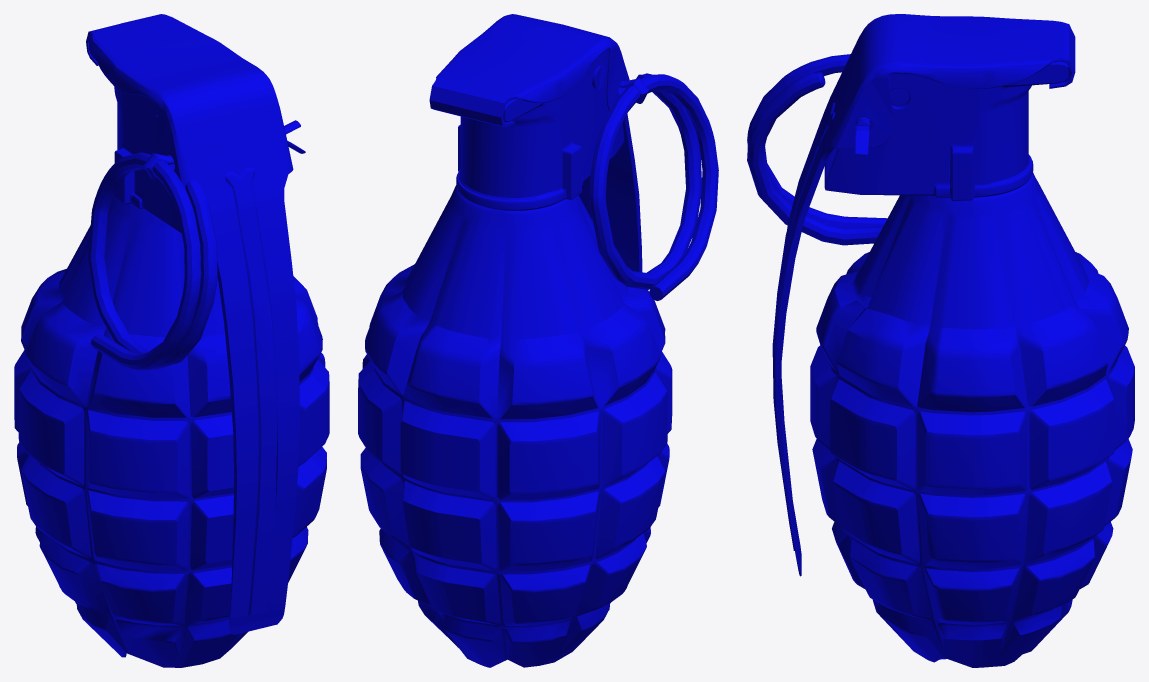
The model's file is Grenade01.fbx.
The picture shows the model from 3 angles, left to right: view 1: azimuth 30°, elevation 25°; view 2: azimuth 150°, elevation 25°; view 3: azimuth 270°, elevation 25°; orthographic projection. The views are drawn at different scales.
Parts seen in each view (by area): view 1: MK3:GrenadeBody_low; view 2: MK3:GrenadeBody_low; view 3: MK3:GrenadeBody_low.
Boxes of the visible parts, x1,y1,x2,y2 form: MK3:GrenadeBody_low: (14, 14, 329, 667); MK3:GrenadeBody_low: (358, 14, 718, 667); MK3:GrenadeBody_low: (747, 14, 1134, 667).
Size of the model in its own units: 5.36 by 11.12 by 6.38.
